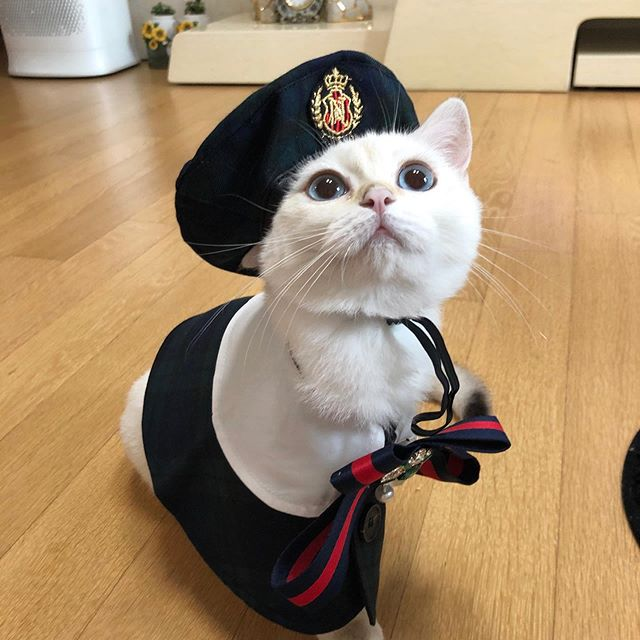cat: (246, 80, 497, 323)
